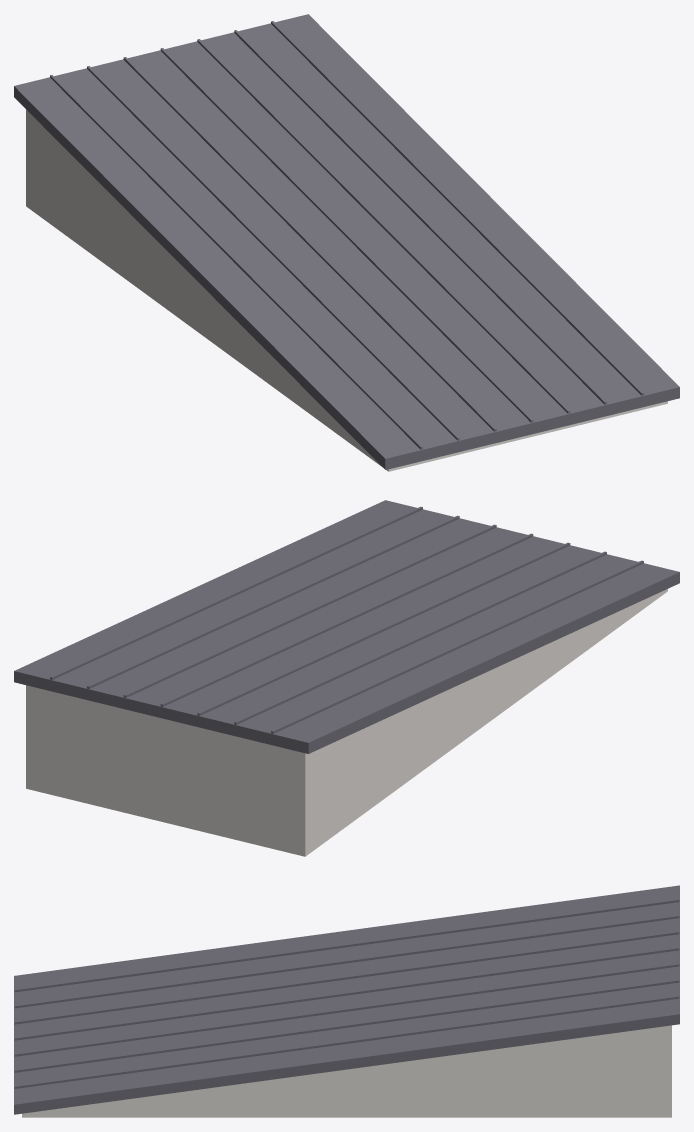
File: SM_Roof_NarrowShedFront_White_364_01.gltf
3 renders of one model, top to bottom at view 1: azimuth 30°, elevation 25°; view 2: azimuth 150°, elevation 25°; view 3: azimuth 270°, elevation 25°, orthographic. The views are drawn at different scales.
Parts seen in each view (by area): view 1: SM_Roof_NarrowShedFront_White_364_01; view 2: SM_Roof_NarrowShedFront_White_364_01; view 3: SM_Roof_NarrowShedFront_White_364_01.
Boxes of the visible parts, bbox=[...] form: SM_Roof_NarrowShedFront_White_364_01: bbox=[14, 14, 679, 471]; SM_Roof_NarrowShedFront_White_364_01: bbox=[14, 500, 679, 856]; SM_Roof_NarrowShedFront_White_364_01: bbox=[14, 885, 679, 1117].
Bounding box in the file's own units: 3.84 × 1.51 × 8.39.
Materials: 1 (1 with a texture image).
